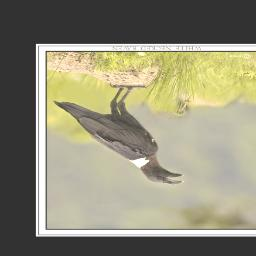Crow: (51, 83, 185, 186)
